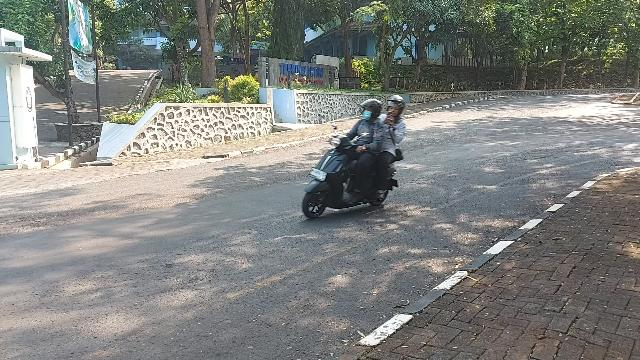helm: (361, 101, 383, 120), (387, 97, 405, 118)
motor: (304, 126, 399, 221)
